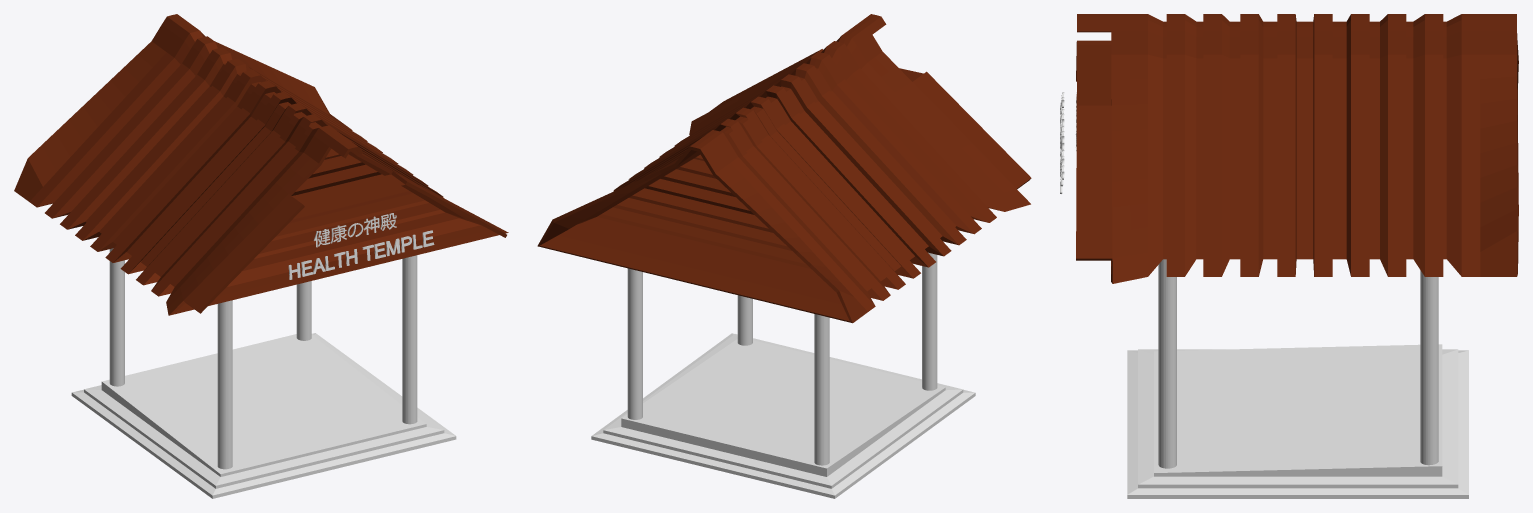
Rendered from littleTemple.fbx.
3 renders of one model, left to right at view 1: azimuth 30°, elevation 25°; view 2: azimuth 150°, elevation 25°; view 3: azimuth 270°, elevation 25°, orthographic. The views are drawn at different scales.
Visible parts, largest first — view 1: Plane, floor, column3, Text.001, Text; view 2: Plane, floor, column3; view 3: Plane, floor, column3.
Boxes of the visible parts, box(x1,y1,x2,y2) form: Plane: box(14, 14, 508, 315); floor: box(71, 333, 456, 498); column3: box(109, 248, 417, 469); Text.001: box(288, 230, 434, 279); Text: box(313, 213, 396, 247); Plane: box(537, 14, 1031, 323); floor: box(591, 333, 975, 498); column3: box(627, 252, 937, 465); Plane: box(1076, 14, 1518, 283); floor: box(1127, 344, 1468, 498); column3: box(1158, 259, 1438, 468).
Size of the model in its own units: 2117 by 2003 by 2037.
